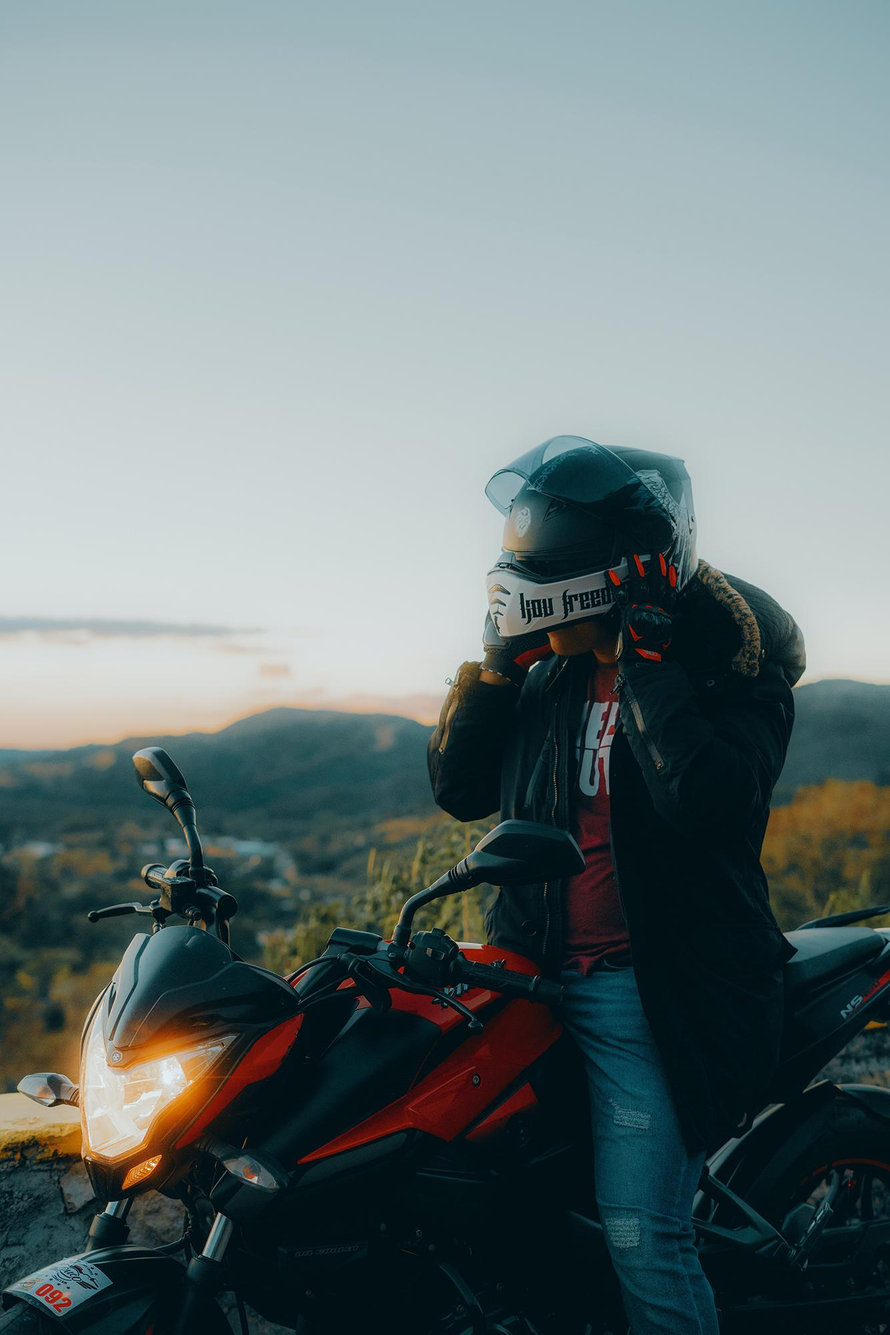helmet: (484, 433, 700, 644)
